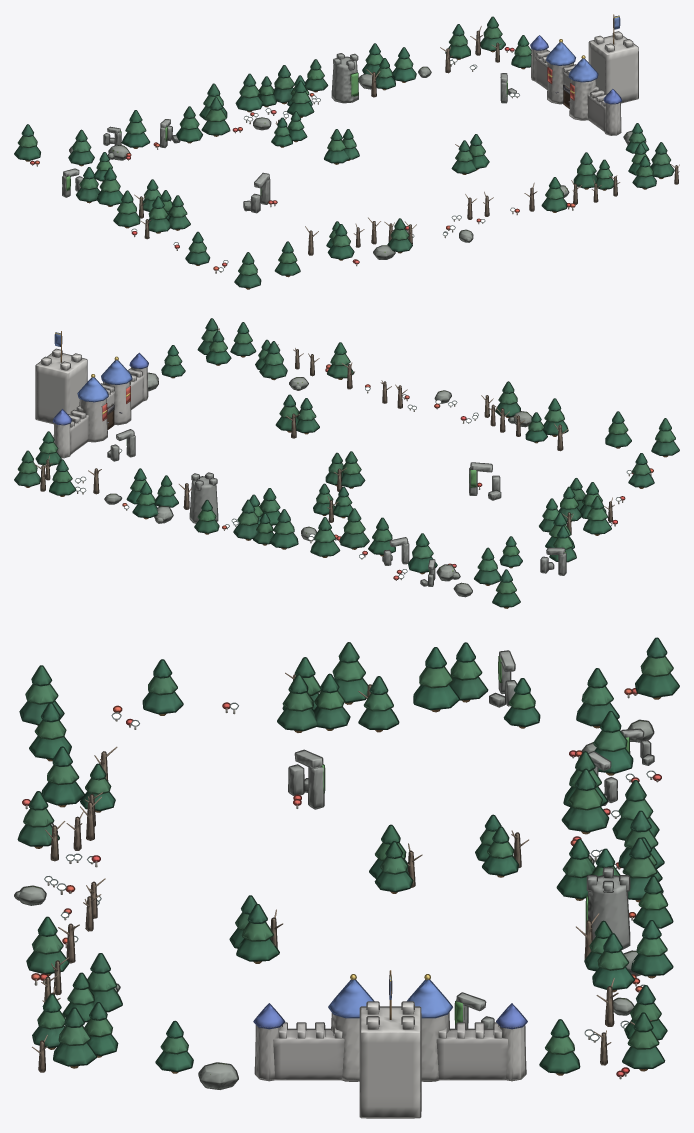
Rendered from darkwood.glb.
3 renders of one model, top to bottom at view 1: azimuth 30°, elevation 25°; view 2: azimuth 150°, elevation 25°; view 3: azimuth 270°, elevation 25°, orthographic. The views are drawn at different scales.
Parts seen in each view (by area): view 1: Baked_matte, Baked_matte_Outline; view 2: Baked_matte, Baked_matte_Outline; view 3: Baked_matte, Baked_matte_Outline.
Part boxes in pixels (x1,y1,x2,y2): Baked_matte: [15, 14, 679, 288]; Baked_matte_Outline: [14, 15, 678, 289]; Baked_matte: [15, 319, 679, 607]; Baked_matte_Outline: [14, 318, 679, 608]; Baked_matte: [15, 638, 678, 1117]; Baked_matte_Outline: [14, 637, 679, 1118].
Size of the model in its own units: 41.12 by 6.36 by 26.9.
